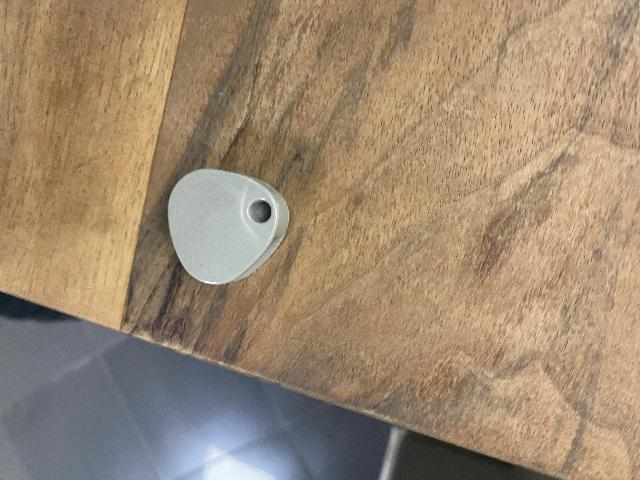Plastik: (162, 170, 290, 286)
